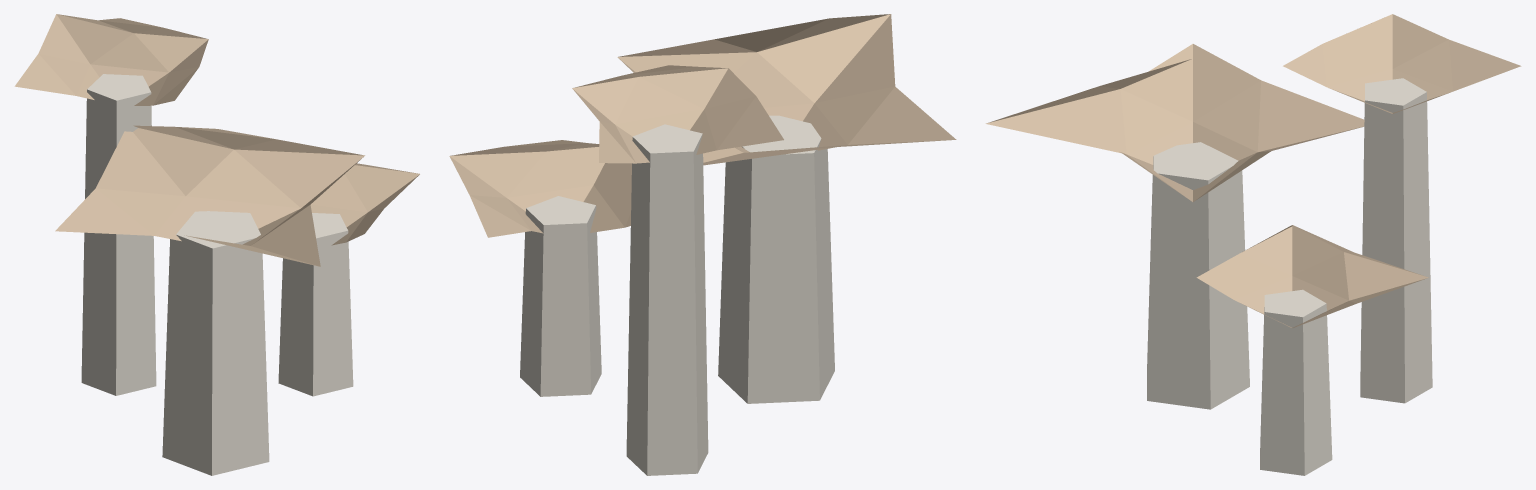
File: mushroom_v25.glb
3 renders of one model, left to right at view 1: azimuth 30°, elevation 25°; view 2: azimuth 150°, elevation 25°; view 3: azimuth 270°, elevation 25°, orthographic. The views are drawn at different scales.
Visible parts, largest first — view 1: lod0; view 2: lod0; view 3: lod0.
Boxes of the visible parts, x1=… form: lod0: x1=14, y1=14, x2=419, y2=475; lod0: x1=449, y1=14, x2=956, y2=475; lod0: x1=985, y1=14, x2=1521, y2=475.
Size of what is drawn, in the model's own units: 0.5039 by 0.4193 by 0.5594.
